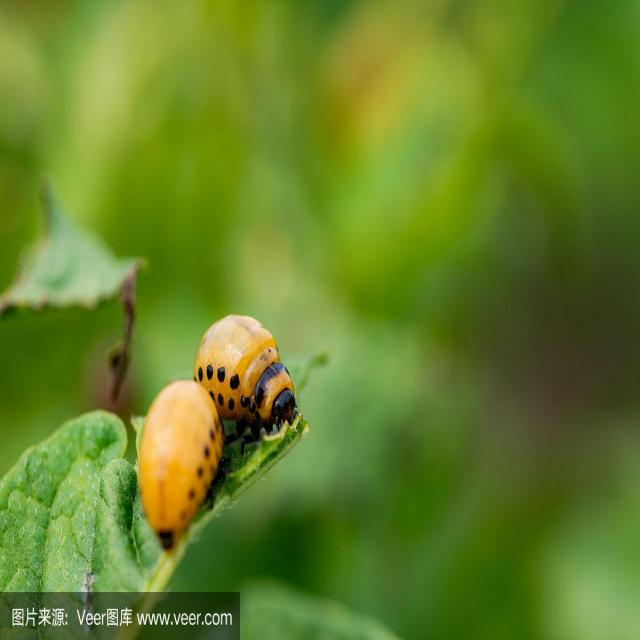ShuCaiHuaBanChong-Larva-: (135, 375, 237, 545), (190, 307, 299, 441)
